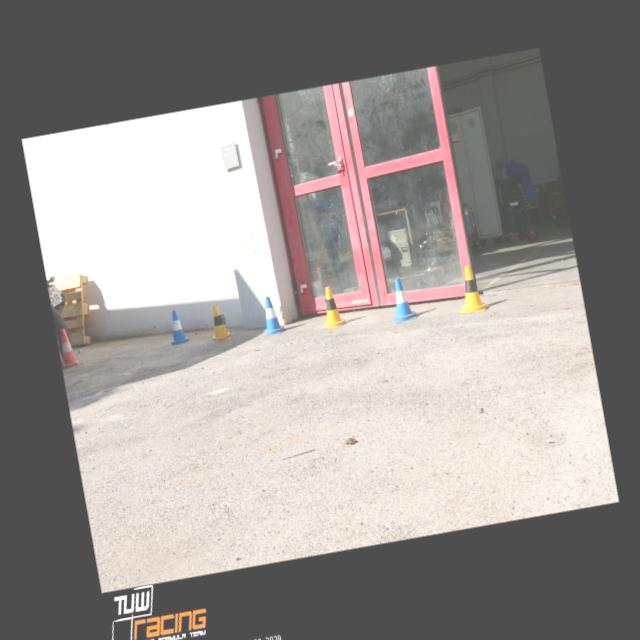blue_cone: (385, 274, 417, 322), (256, 294, 284, 336), (164, 307, 190, 345)
orange_cone: (56, 326, 84, 370)
yellow_cone: (452, 262, 489, 314), (316, 284, 346, 328), (205, 302, 233, 342)
